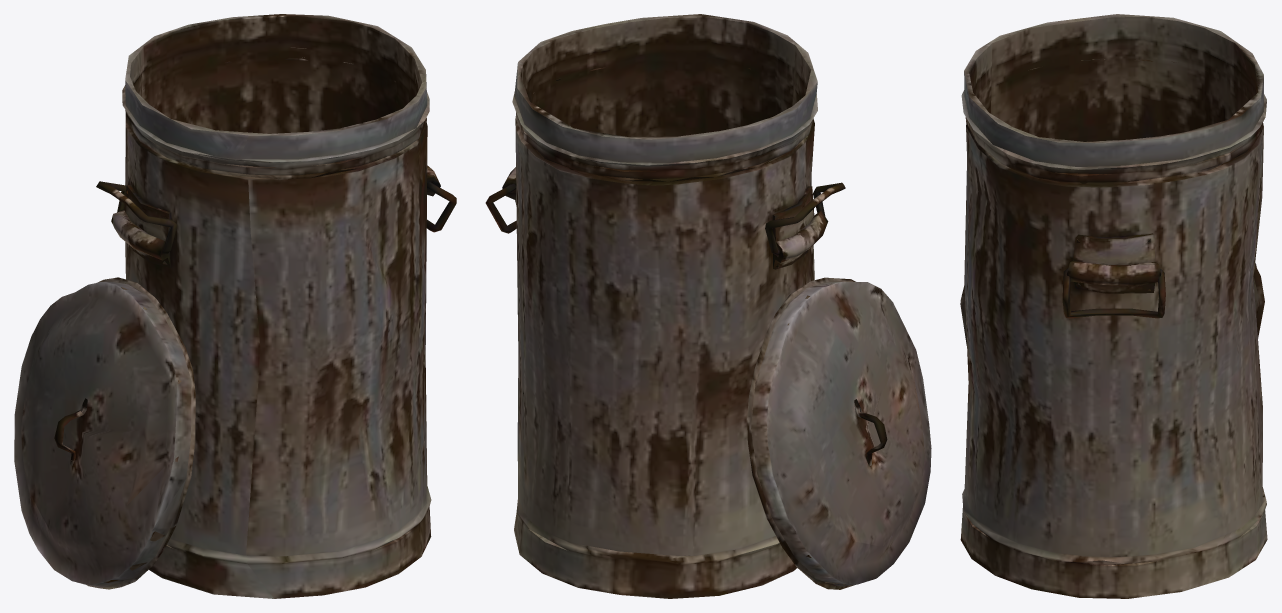
File: yardprop_trash_can_rust.glb
3 renders of one model, left to right at view 1: azimuth 30°, elevation 25°; view 2: azimuth 150°, elevation 25°; view 3: azimuth 270°, elevation 25°, orthographic.
Visible parts, largest first — view 1: metal_trash_can_rust, metal_trash_can_rust_lid, metal_trash_can_rust_handle_left, metal_trash_can_rust_handle_right; view 2: metal_trash_can_rust, metal_trash_can_rust_lid, metal_trash_can_rust_handle_left, metal_trash_can_rust_handle_right; view 3: metal_trash_can_rust, metal_trash_can_rust_handle_right, metal_trash_can_rust_lid.
Part boxes in pixels (left/top/right/bottom): metal_trash_can_rust: left=111, top=14, right=440, bottom=598; metal_trash_can_rust_lid: left=14, top=277, right=195, bottom=589; metal_trash_can_rust_handle_left: left=96, top=181, right=177, bottom=254; metal_trash_can_rust_handle_right: left=426, top=182, right=456, bottom=232; metal_trash_can_rust: left=502, top=14, right=828, bottom=598; metal_trash_can_rust_lid: left=747, top=277, right=931, bottom=589; metal_trash_can_rust_handle_left: left=765, top=182, right=845, bottom=255; metal_trash_can_rust_handle_right: left=485, top=183, right=516, bottom=233; metal_trash_can_rust: left=960, top=14, right=1267, bottom=598; metal_trash_can_rust_handle_right: left=1062, top=268, right=1165, bottom=318; metal_trash_can_rust_lid: left=960, top=263, right=1264, bottom=345.
Bounding box in the file's own units: 0.7739 × 0.9064 × 0.5505.
Materials: 1 (1 with a texture image).
